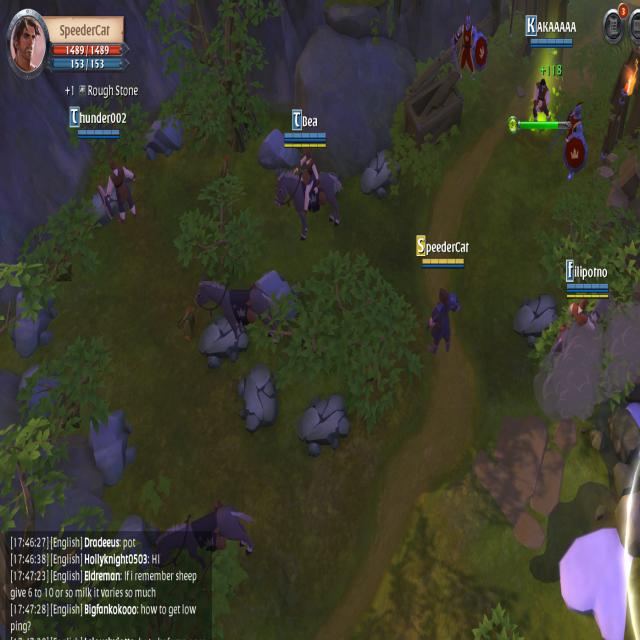broken stone: (295, 388, 353, 459), (234, 361, 281, 438), (508, 289, 560, 351), (196, 316, 250, 373), (358, 141, 402, 200)
stone: (82, 407, 138, 487), (9, 281, 58, 359), (135, 110, 185, 161), (19, 367, 60, 418), (258, 120, 298, 170)
